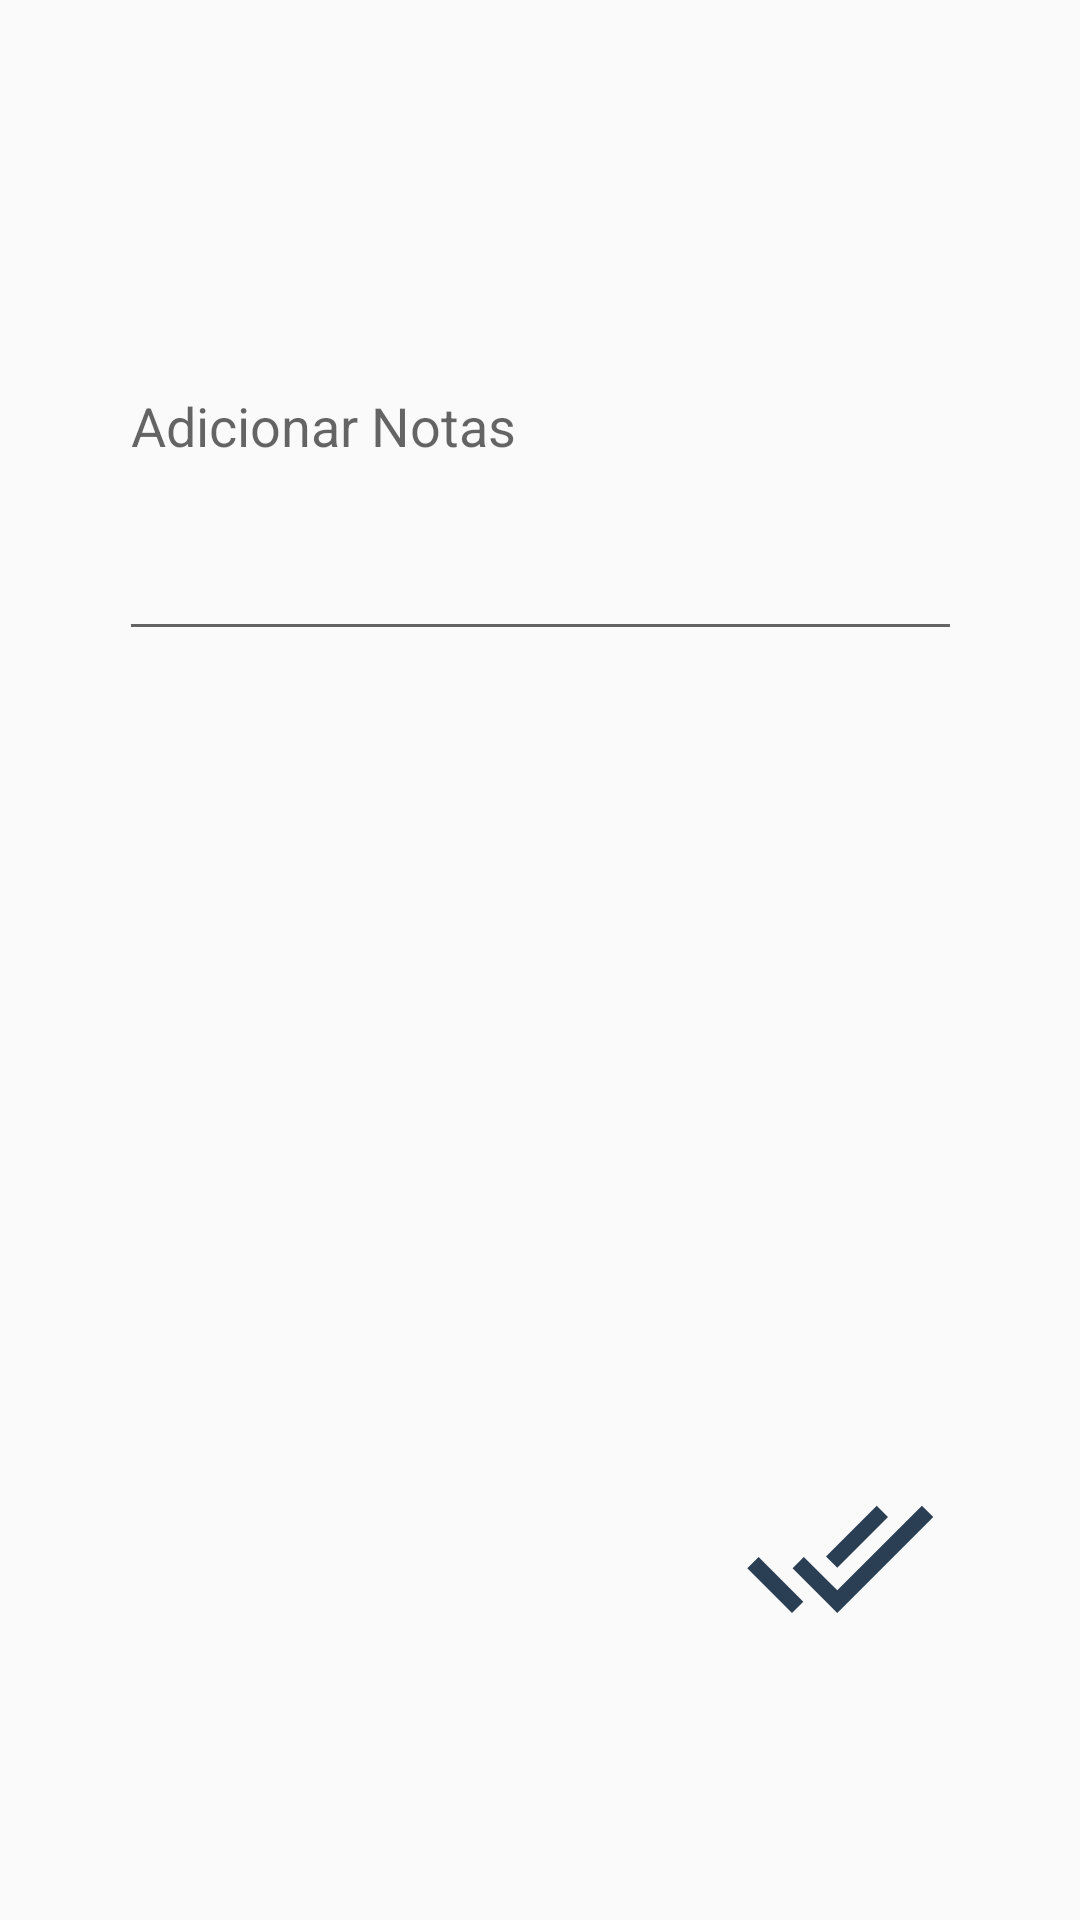

Icons on this 1080px×1920px Android screen, each with the point to tap as point (x, y):
done all: point (840, 1559)
